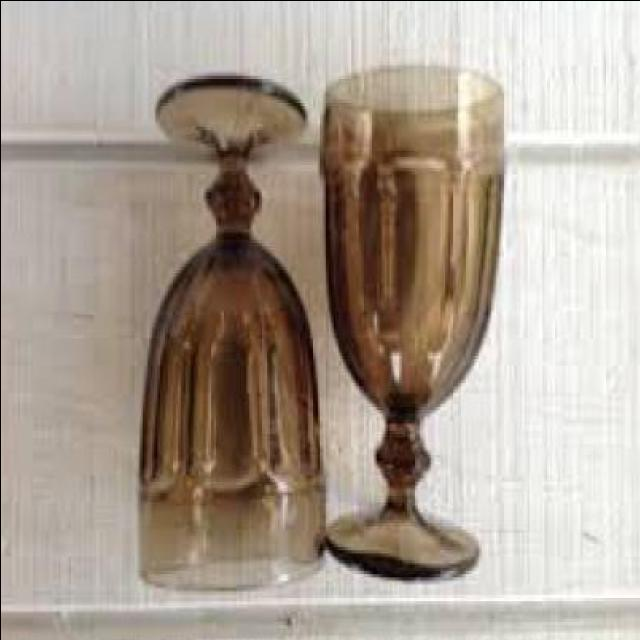kaca: (324, 61, 506, 576), (142, 72, 324, 582)
